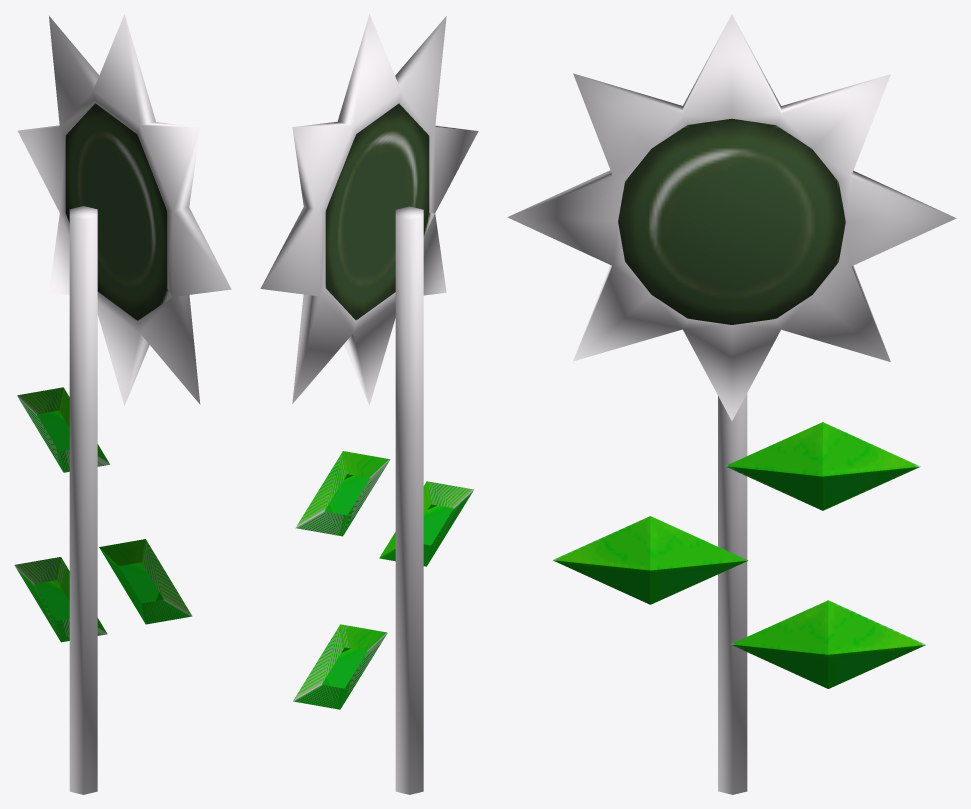
Rendered from GreenHillSunflower.obj.
The picture shows the model from 3 angles, left to right: view 1: azimuth 30°, elevation 25°; view 2: azimuth 150°, elevation 25°; view 3: azimuth 270°, elevation 25°; orthographic projection. The views are drawn at different scales.
Size of the model in its own units: 3.49 by 32.37 by 16.61.
1 material, 1 textured.
